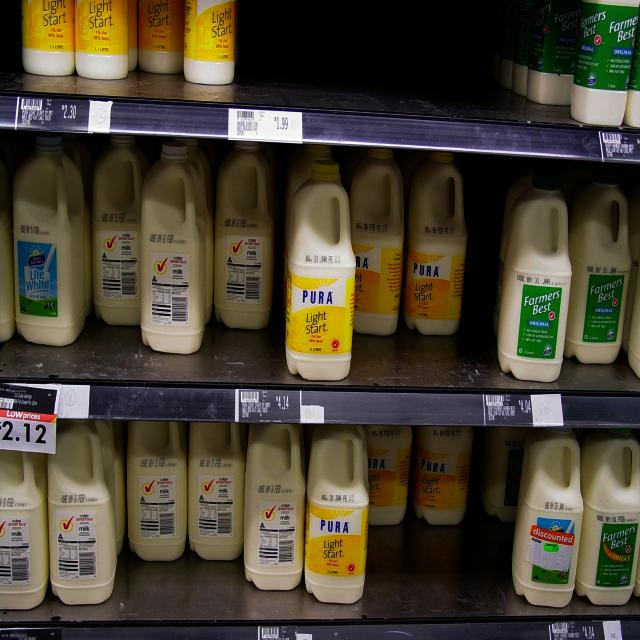empty_space: (247, 0, 499, 108), (371, 526, 501, 610), (121, 563, 249, 621), (353, 340, 495, 384)
